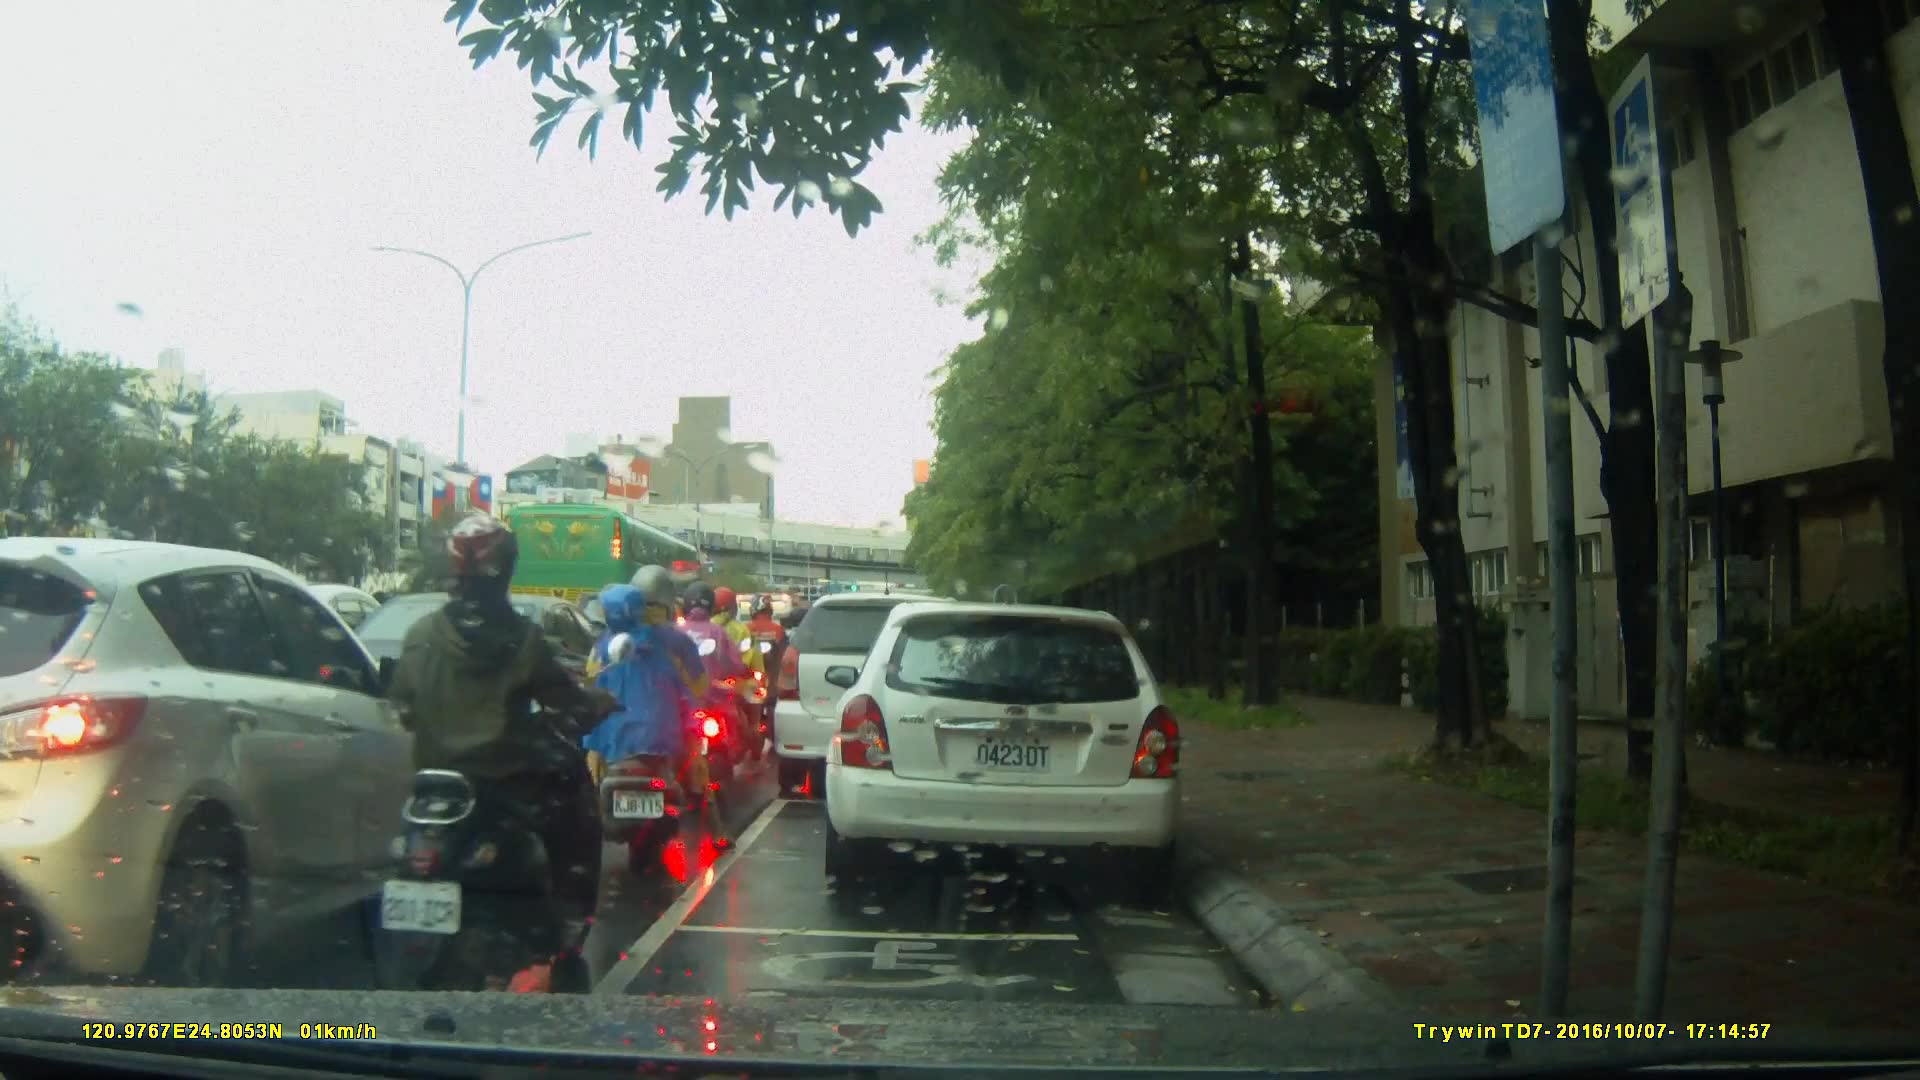rider: (356, 507, 619, 1019), (586, 565, 726, 857), (664, 584, 736, 792), (699, 586, 774, 782), (739, 592, 791, 739)
vehicle: (4, 535, 468, 988), (831, 592, 1196, 897), (313, 589, 629, 776), (770, 590, 999, 804), (501, 503, 710, 636)
